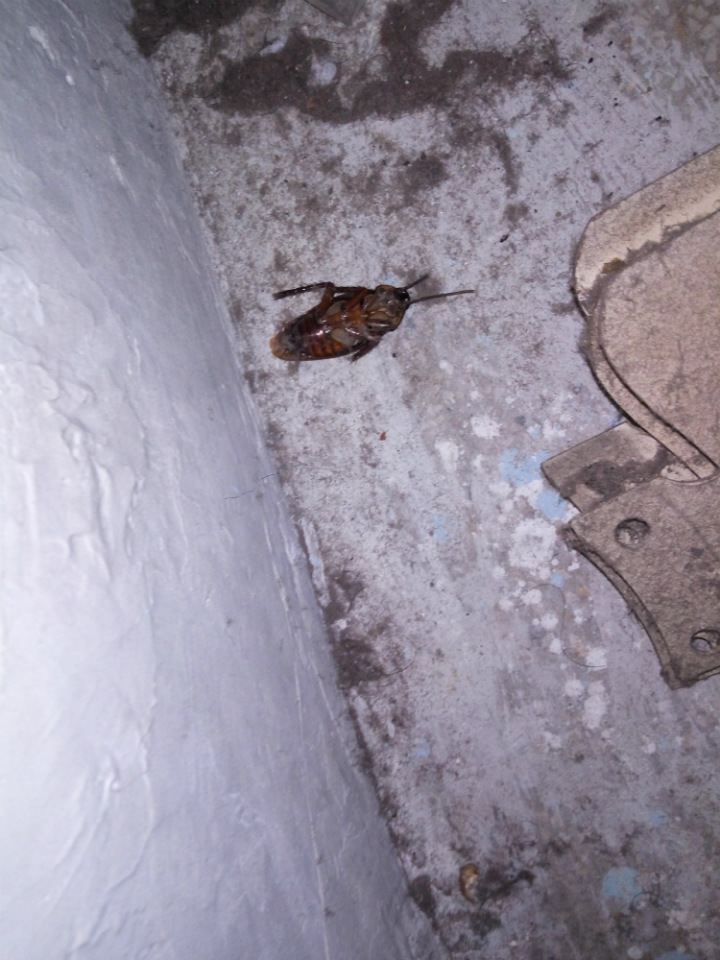cockroach: (237, 222, 488, 391)
